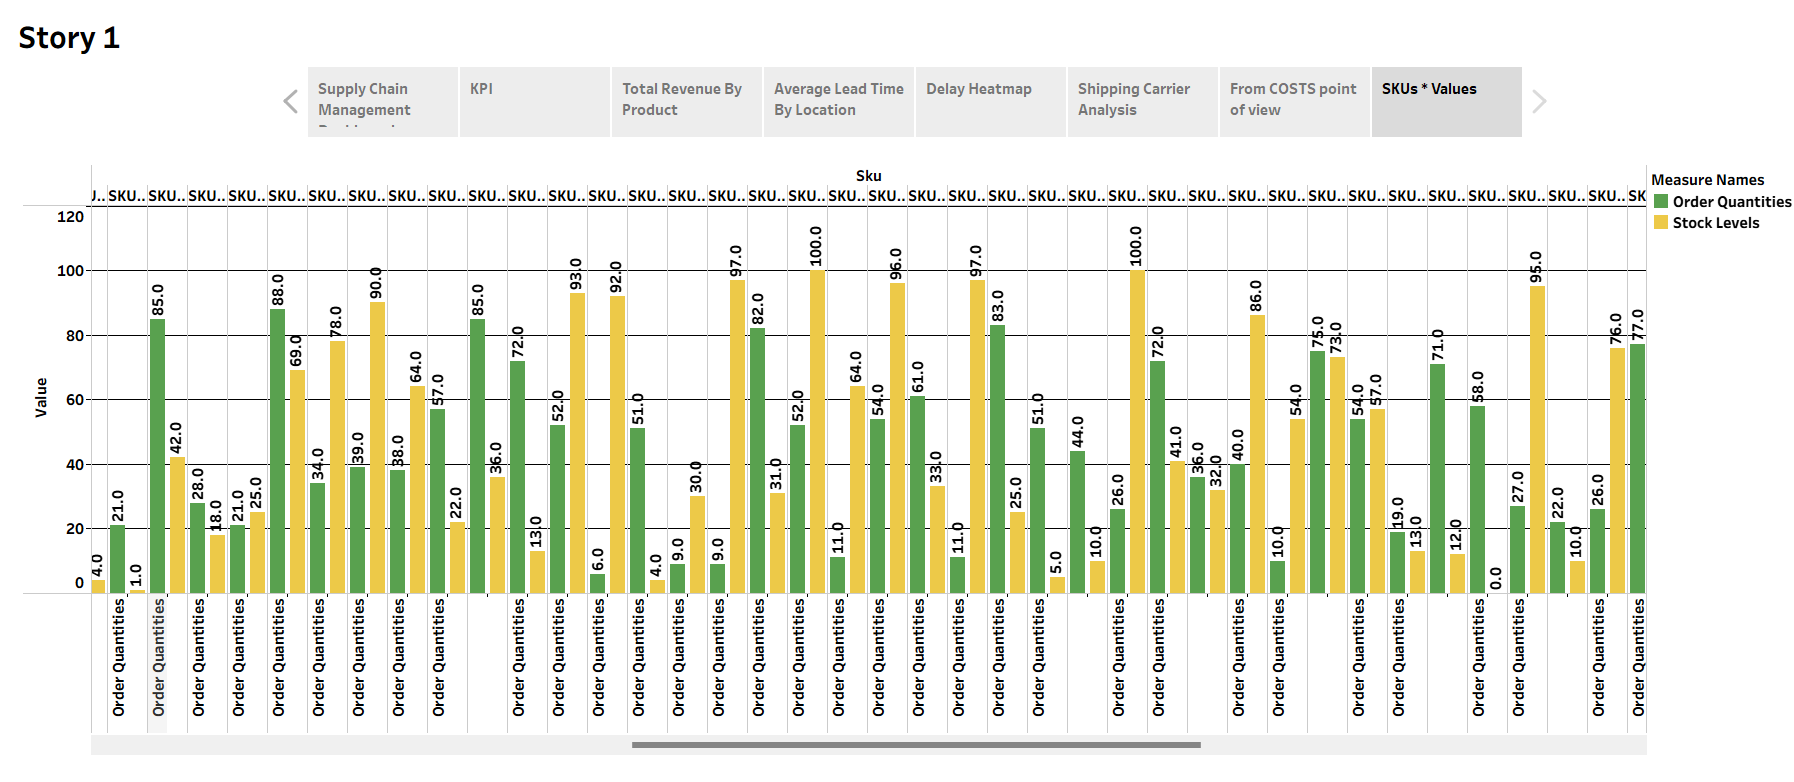

The dashboard page shown, as its layout file describes it:
{"tool":"tableau","page":{"name":"Dashboard 4","canvas":[1000,1000],"units":"permille","ordinal":3},"visuals":[{"type":"worksheet","title":"Sheet 7","mark":"Automatic","rows":["costs"],"cols":["inspection_results","product_type","customer_demographics","location"],"box":[4.9,11,830,978.1]},{"type":"legend","title":"Sheet 7","param":"[federated.15tfg9s0zh5uvz1e8yaf50bd6k9i].[none:location:nk]","box":[834.9,11,160.3,152.1]}]}

Visuals, with their boxes on the dashboard's canvas, which has no fixed pixel size, in thousandths of its width and height (x1, y1, x2, y2). These are canvas units, not pixel positions in the 1794x782 screenshot, which may show the page scaled, cropped or inside an application window:
"Sheet 7" worksheet: detection(5, 11, 835, 989)
"Sheet 7" legend: detection(835, 11, 995, 163)
